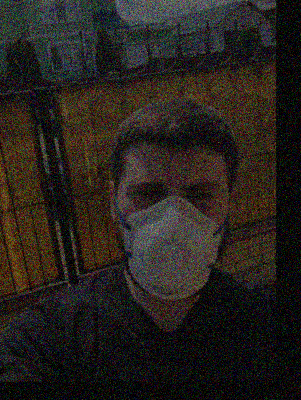with_mask: (118, 162, 229, 302)
